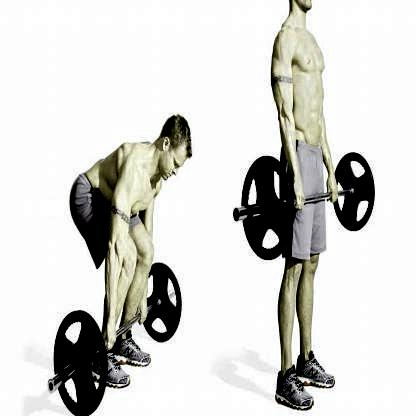Barbell: (232, 206, 242, 224), (48, 377, 57, 397)
